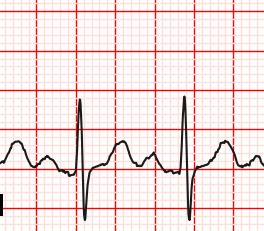ST Depression: (165, 161, 207, 224), (60, 159, 99, 225)
